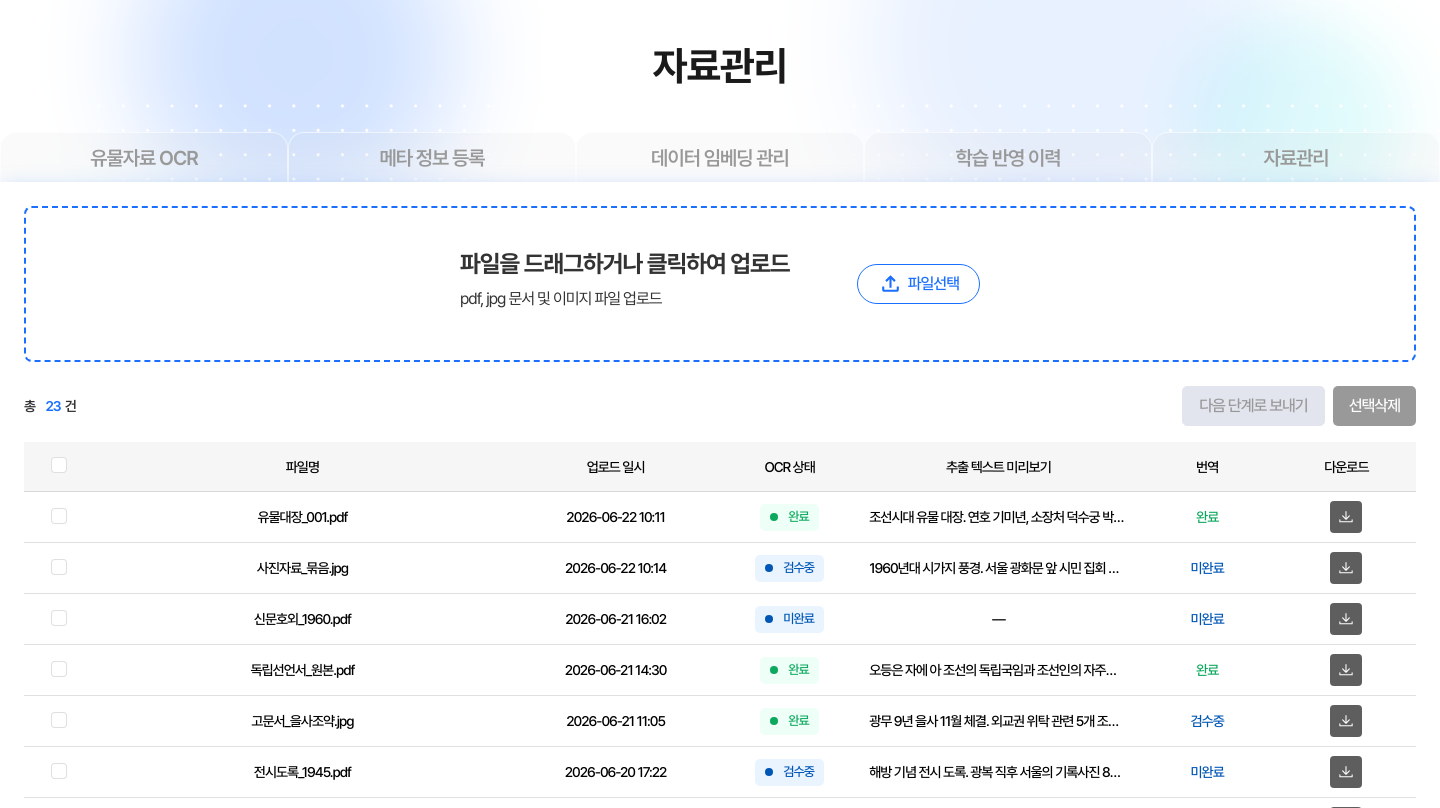
it: Ocr: 다운로드 버튼은 준비중 — 클릭 시 토스트만 뜨고 아무 파일도 받지 않는다(D2a concern #4)
Click the button named "다운로드" in the row of "유물대장_001.pdf" at [1346, 518], box [1330,502,1362,534]
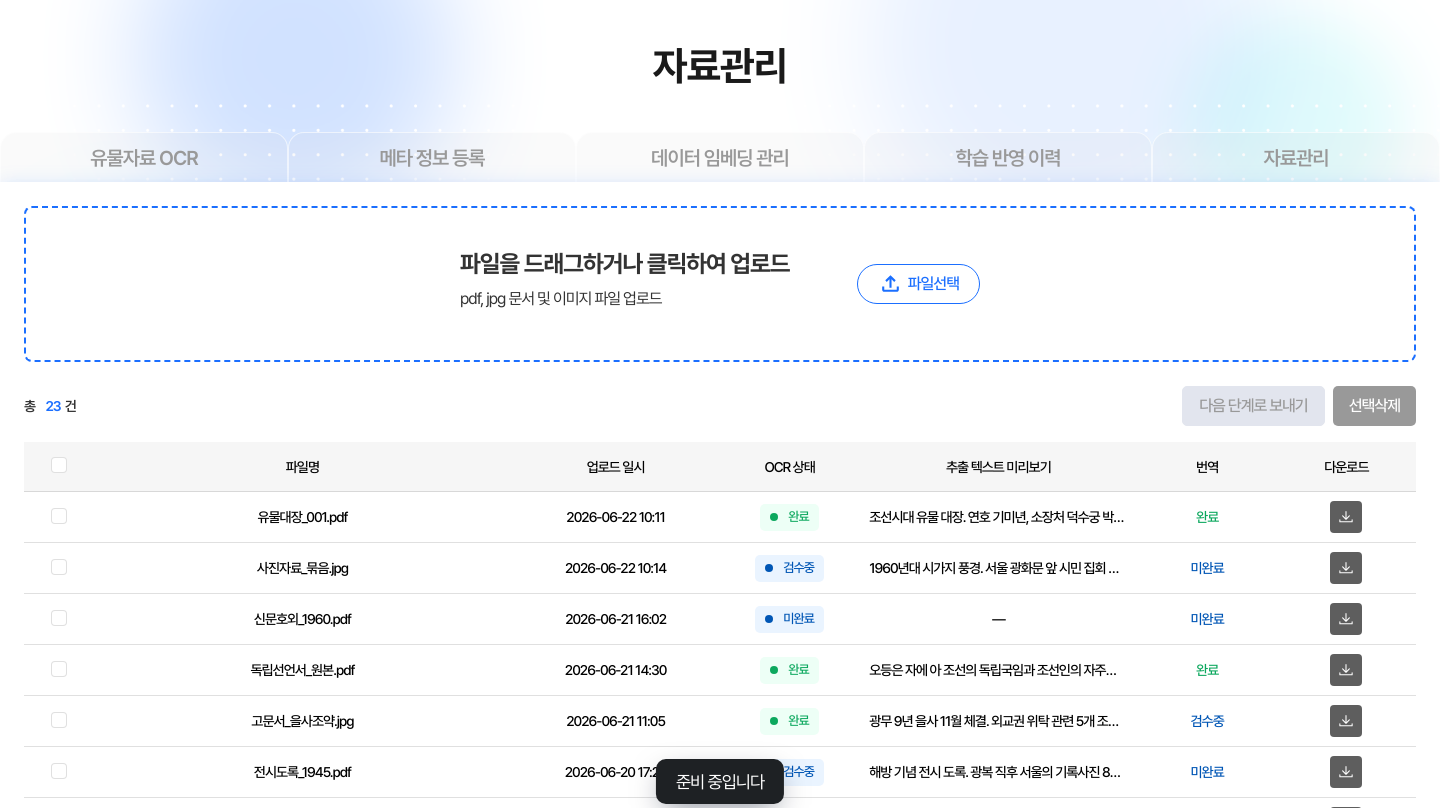
Now the message reads "준비 중입니다", box [676,771,764,792]
